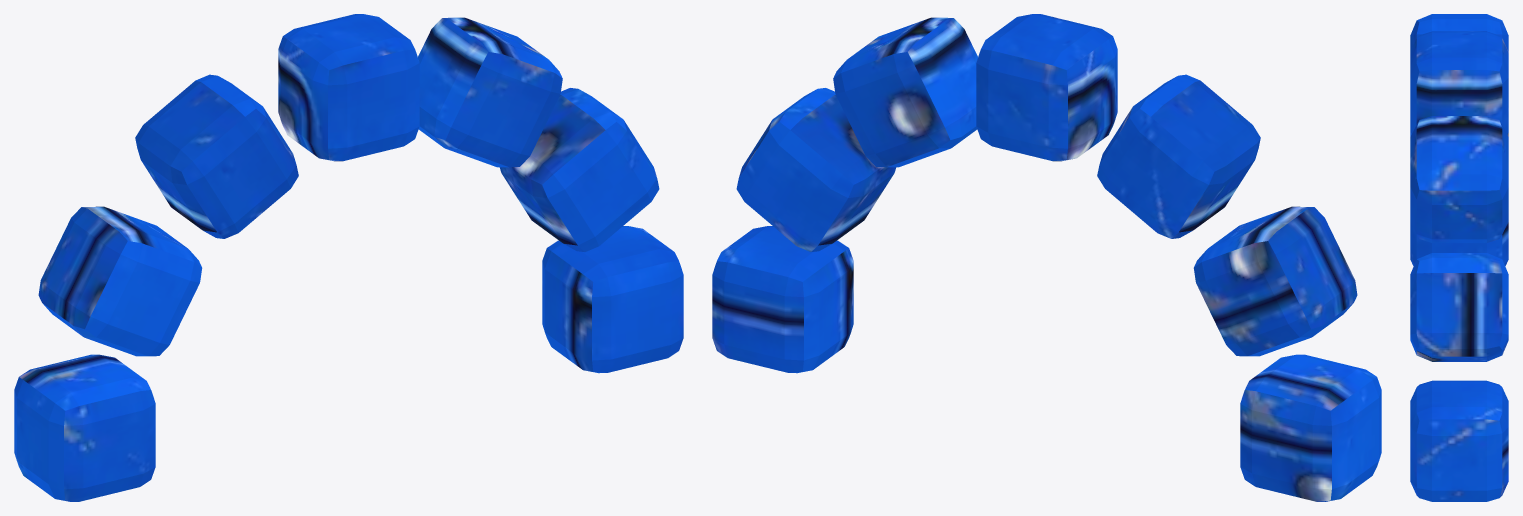
Rendered from tunel_arco.glb.
3 views of the same model, side by side, from view 1: azimuth 30°, elevation 25°; view 2: azimuth 150°, elevation 25°; view 3: azimuth 270°, elevation 25° (orthographic). The views are drawn at different scales.
Parts seen in each view (by area): view 1: tunel_arco; view 2: tunel_arco; view 3: tunel_arco.
Part boxes in pixels (<box>): tunel_arco: <box>14,14,683,501</box>; tunel_arco: <box>712,14,1381,501</box>; tunel_arco: <box>1410,14,1508,501</box>.
Bounding box in the file's own units: 1 × 0.5826 × 0.1565.
Materials: 1 (1 with a texture image).
